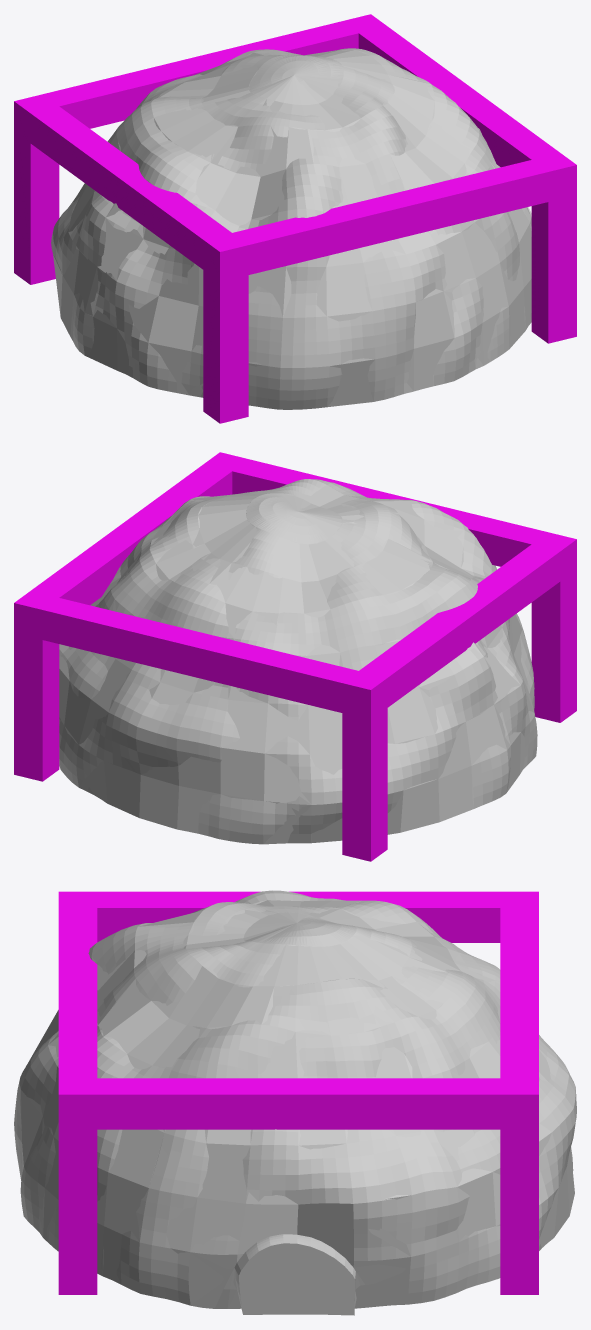
The model's file is mine_held.fbx.
The picture shows the model from 3 angles, top to bottom: view 1: azimuth 30°, elevation 25°; view 2: azimuth 150°, elevation 25°; view 3: azimuth 270°, elevation 25°; orthographic projection. The views are drawn at different scales.
Parts seen in each view (by area): view 1: Sphere, Cube; view 2: Sphere, Cube; view 3: Sphere, Cube.
Boxes of the visible parts, x1,y1,x2,y2 form: Sphere: (51,48,531,409); Cube: (14,14,576,423); Sphere: (59,479,537,844); Cube: (14,452,576,861); Sphere: (14,890,576,1315); Cube: (58,891,538,1294).
Bounding box in the file's own units: 105 × 55.34 × 102.
